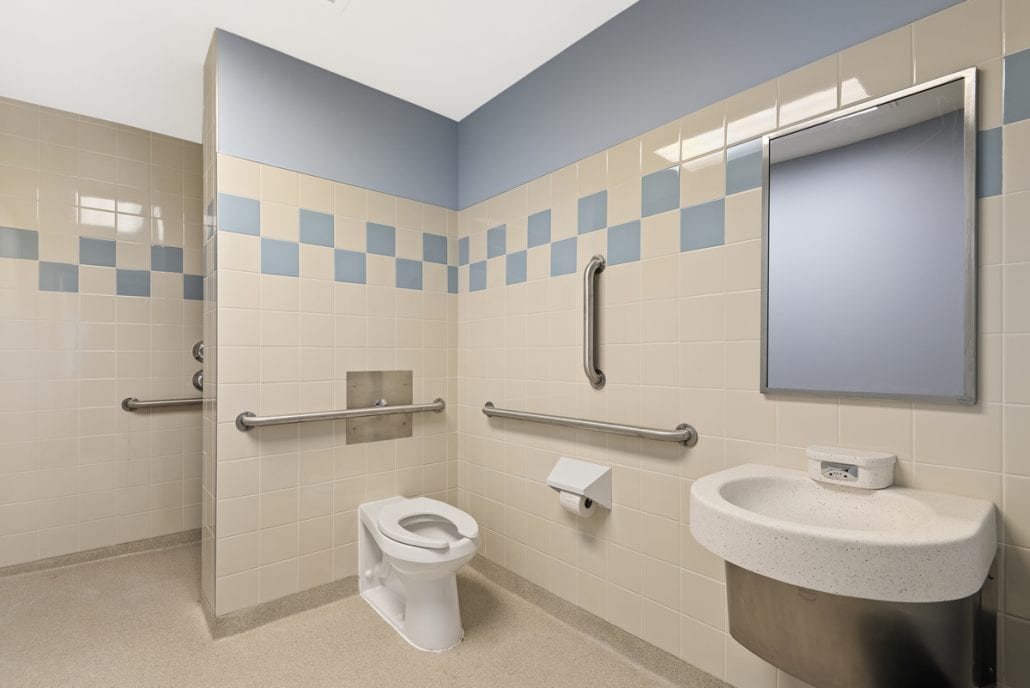dispenser: (546, 454, 612, 521)
restroom_assist_bar: (481, 399, 699, 446), (235, 398, 450, 433), (584, 256, 608, 389), (121, 397, 206, 414)
sink: (690, 459, 998, 602)
toilet: (355, 494, 479, 653)
